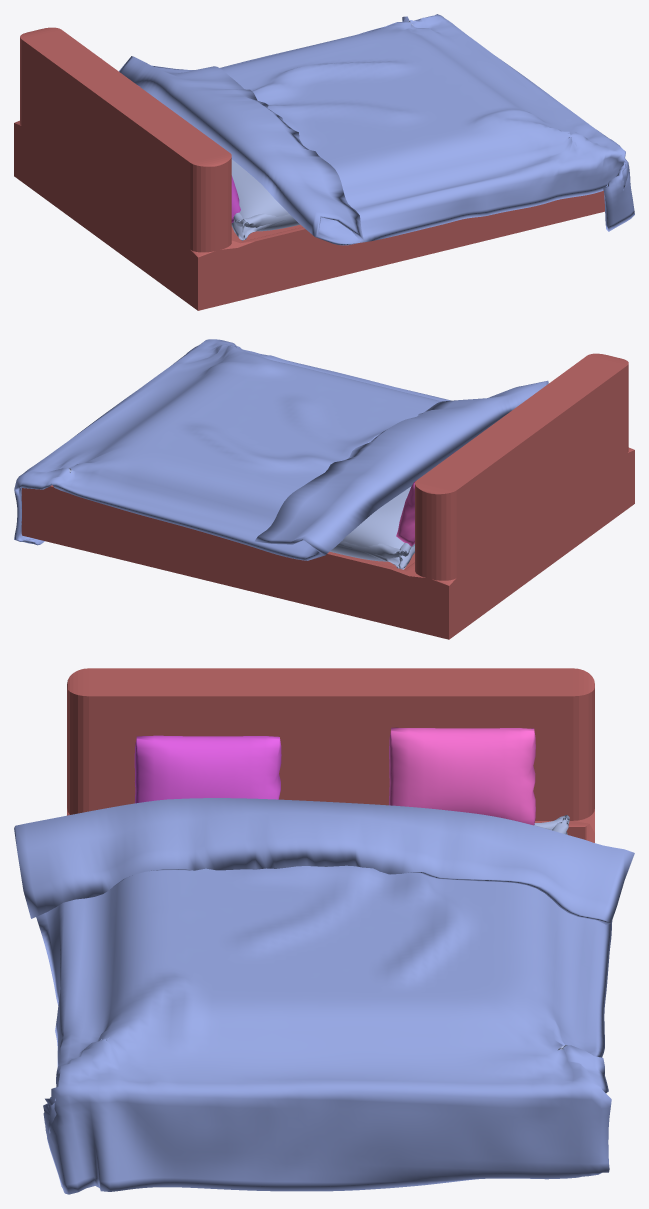
The model's file is bed2.fbx.
3 views of the same model, one above another, from view 1: azimuth 30°, elevation 25°; view 2: azimuth 150°, elevation 25°; view 3: azimuth 270°, elevation 25° (orthographic). The views are drawn at different scales.
Parts seen in each view (by area): view 1: 平面, 床架, 立方体; view 2: 平面, 床架, 立方体, 枕头2; view 3: 平面, 床架, 枕头2, 枕头1.
Boxes of the visible parts, x1,y1,x2,y2 form: 平面: (119,14,634,245); 床架: (14,27,604,310); 立方体: (231,21,413,240); 平面: (14,339,548,560); 床架: (21,353,634,639); 立方体: (69,468,414,569); 枕头2: (396,452,454,546); 平面: (14,798,634,1194); 床架: (67,668,594,842); 枕头2: (389,727,535,825); 枕头1: (134,735,281,803).
Size of the model in its own units: 8.35 by 2.91 by 7.06.
